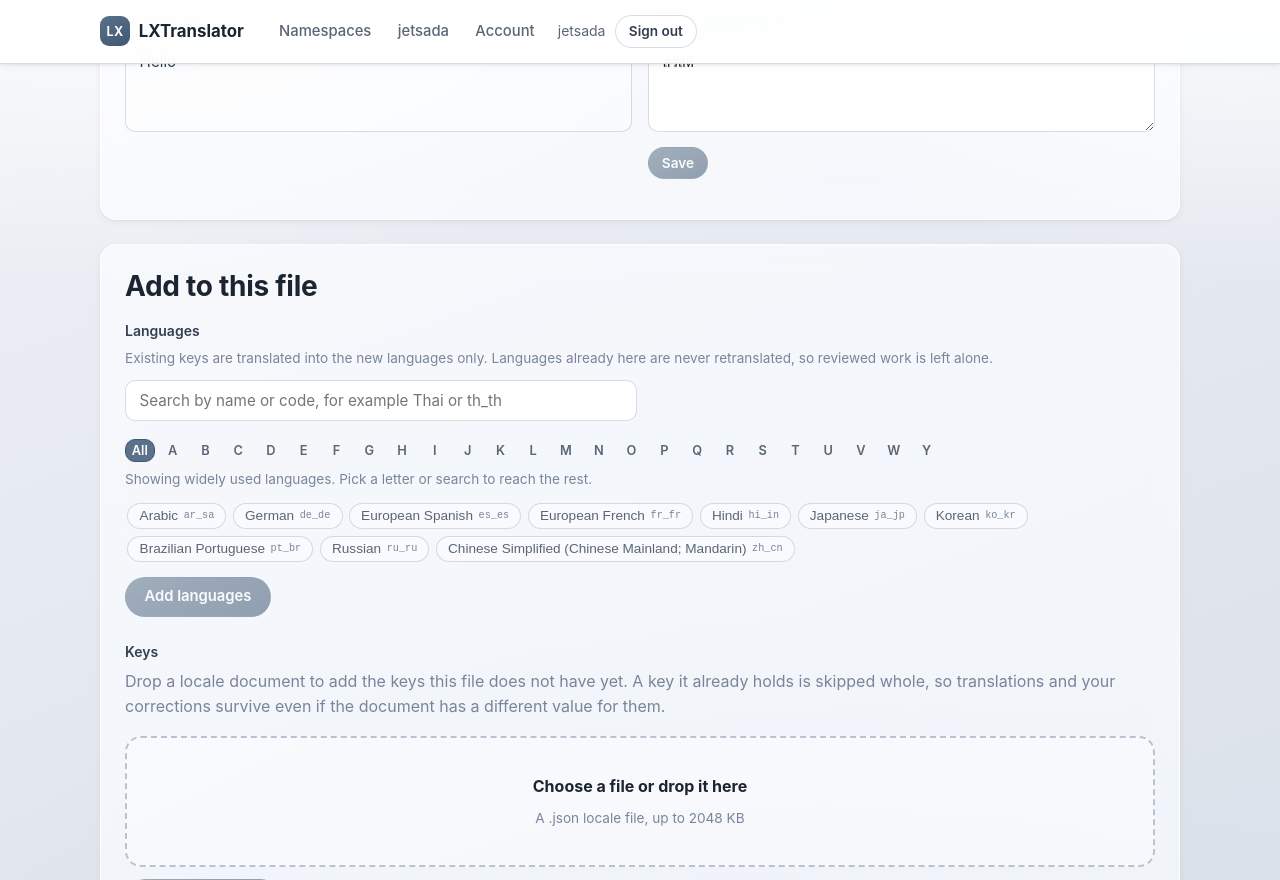
Test: translation editor › finding a language among many › files an accented name under the letter it is looked for
(page scrolled)
Expected: the heading "Add to this file" is shown, [125,269,317,304]
Click the button "K": click(500, 451) [486,439,515,462]
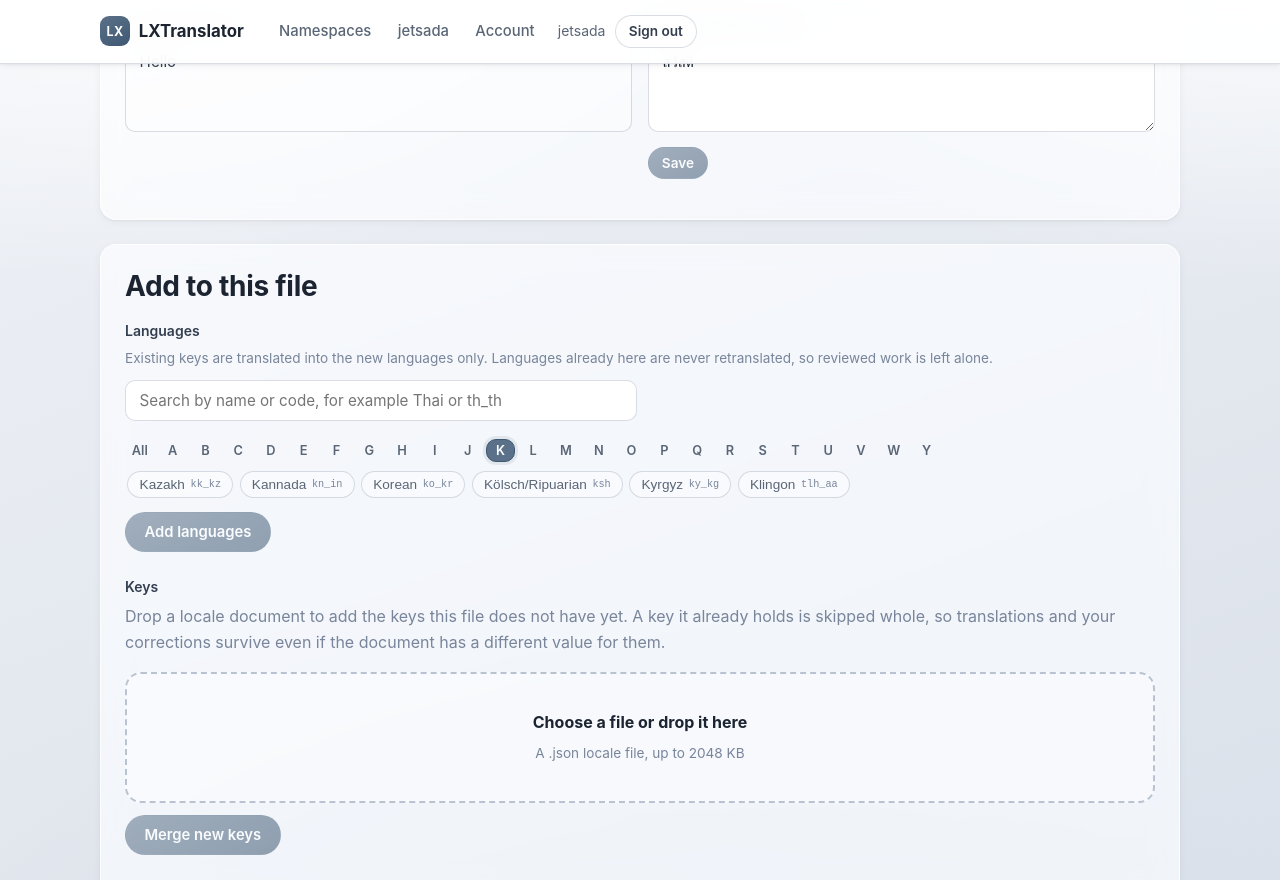
Expected: the button "Kölsch/Ripuarian ksh" is shown, [472,471,623,498]
